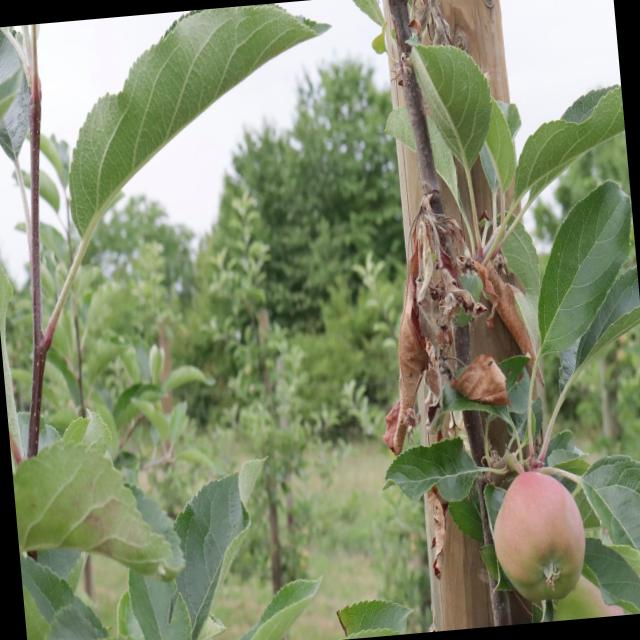-FireBlight-: (378, 210, 555, 454)
